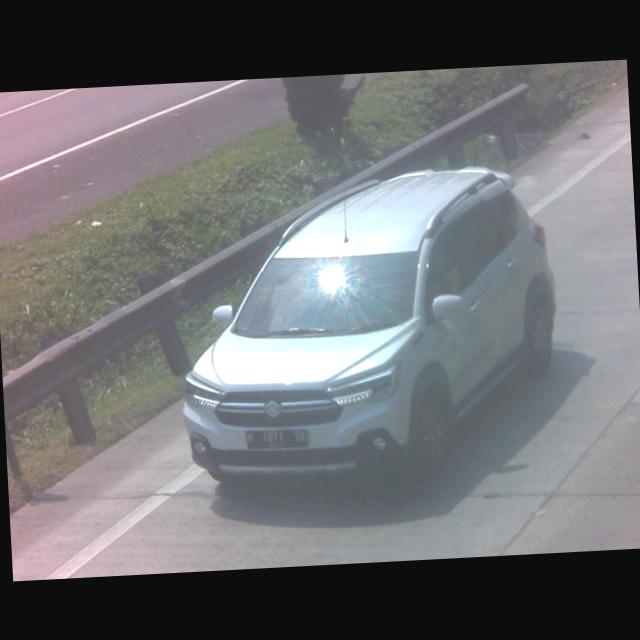plate: (243, 424, 313, 454)
